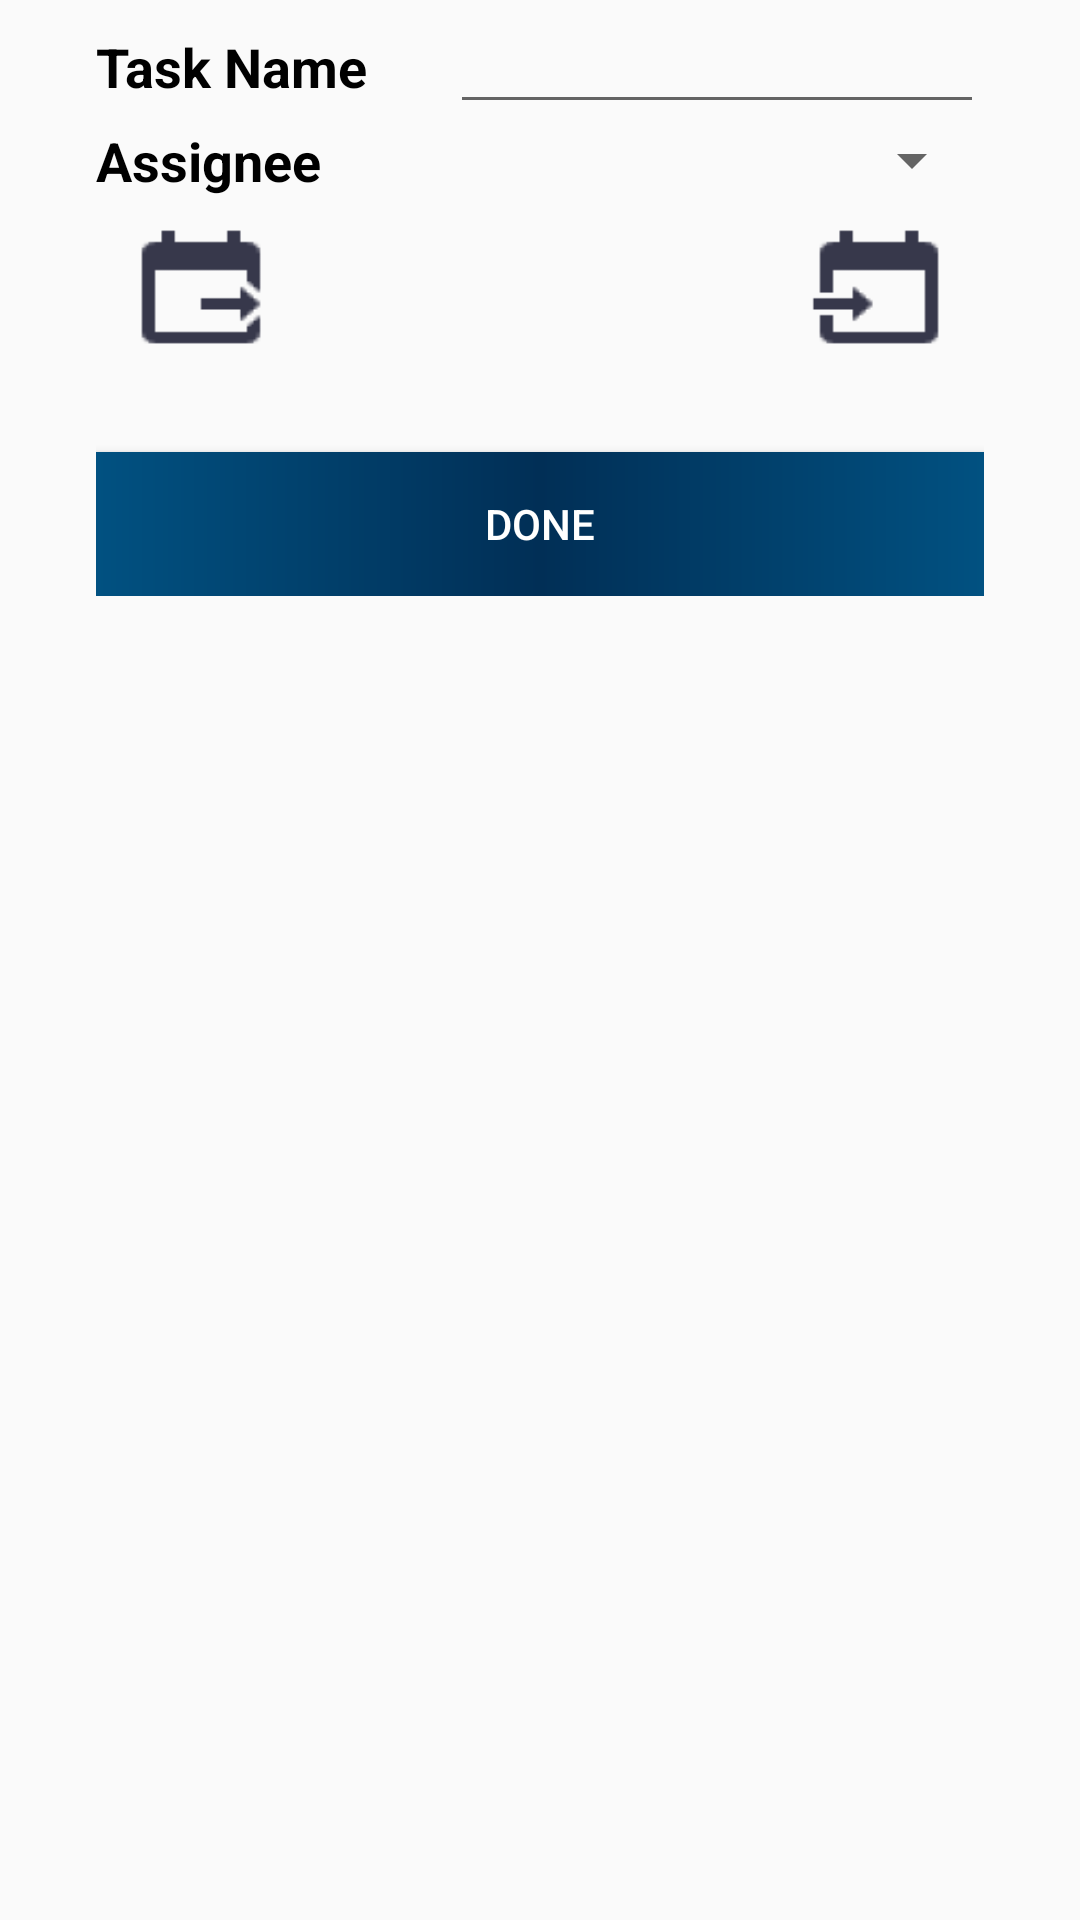

Icons on this 1080w x 1920h Android screen, each with the point to tap as (x=x, y=y):
date from: (x=201, y=287)
date to: (x=876, y=287)
